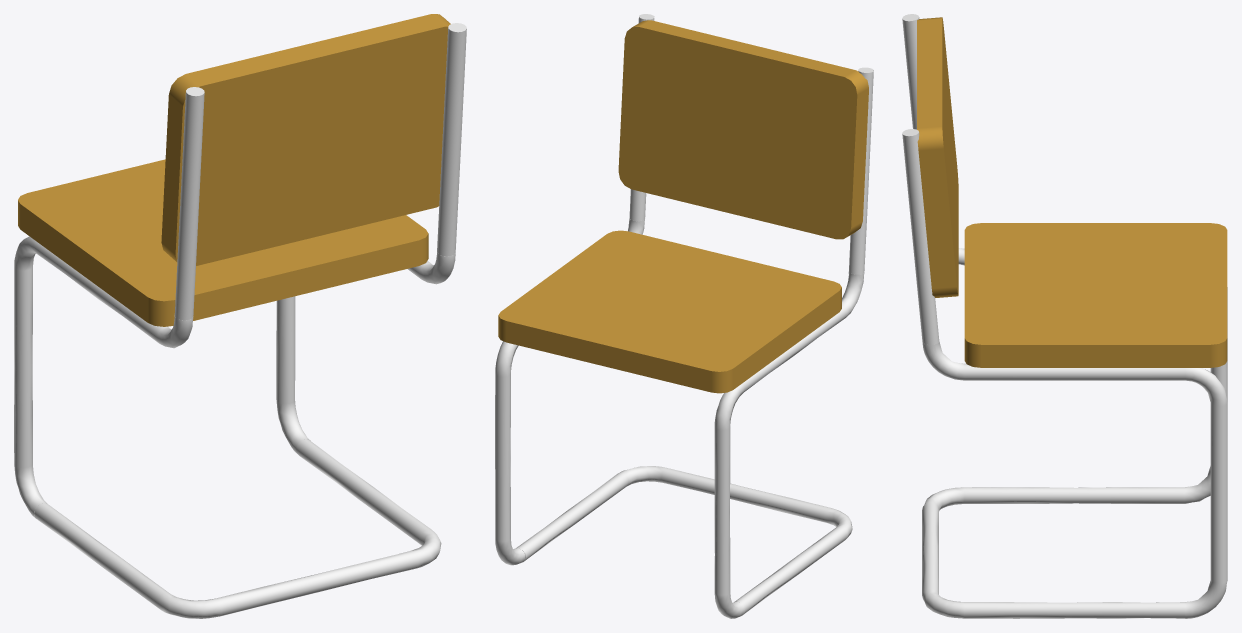
Rendered from Chair.FBX.
The picture shows the model from 3 angles, left to right: view 1: azimuth 30°, elevation 25°; view 2: azimuth 150°, elevation 25°; view 3: azimuth 270°, elevation 25°; orthographic projection. The views are drawn at different scales.
Parts seen in each view (by area): view 1: Furniture_Chair 430x480x457mm [203067]; view 2: Furniture_Chair 430x480x457mm [203067]; view 3: Furniture_Chair 430x480x457mm [203067].
Part boxes in pixels (box(x1,y1,x2,y2)): Furniture_Chair 430x480x457mm [203067]: box(14, 14, 466, 618); Furniture_Chair 430x480x457mm [203067]: box(495, 14, 873, 618); Furniture_Chair 430x480x457mm [203067]: box(902, 14, 1227, 618).
Bounding box in the file's own units: 433 × 487 × 806.
